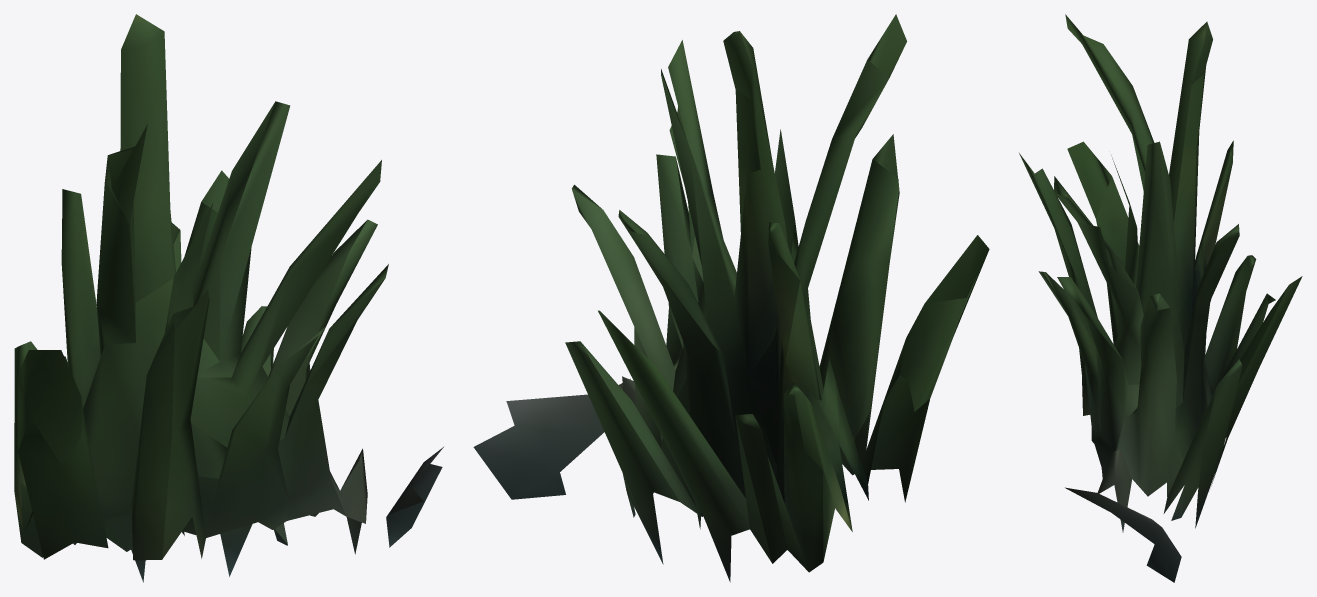
The model's file is terrain3_plant_3.glb.
The picture shows the model from 3 angles, left to right: view 1: azimuth 30°, elevation 25°; view 2: azimuth 150°, elevation 25°; view 3: azimuth 270°, elevation 25°; orthographic projection. The views are drawn at different scales.
Parts seen in each view (by area): view 1: plant_3; view 2: plant_3; view 3: plant_3.
Boxes of the visible parts, left/top/right/bottom form: plant_3: left=14, top=14, right=443, bottom=582; plant_3: left=473, top=14, right=989, bottom=582; plant_3: left=1019, top=14, right=1302, bottom=582.
Bounding box in the file's own units: 6.88 × 8.03 × 4.37.
Materials: 1 (1 with a texture image).
